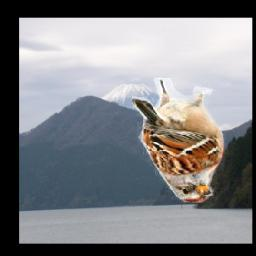Sparrow: (131, 78, 225, 203)
